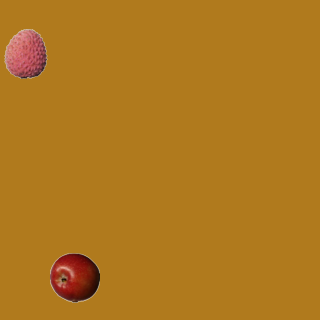Apple Braeburn: (49, 252, 99, 302)
Lychee: (0, 28, 50, 78)
